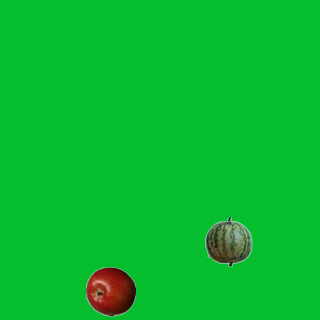Apple Braeburn: (85, 266, 135, 316)
Watermelon: (203, 216, 253, 266)
